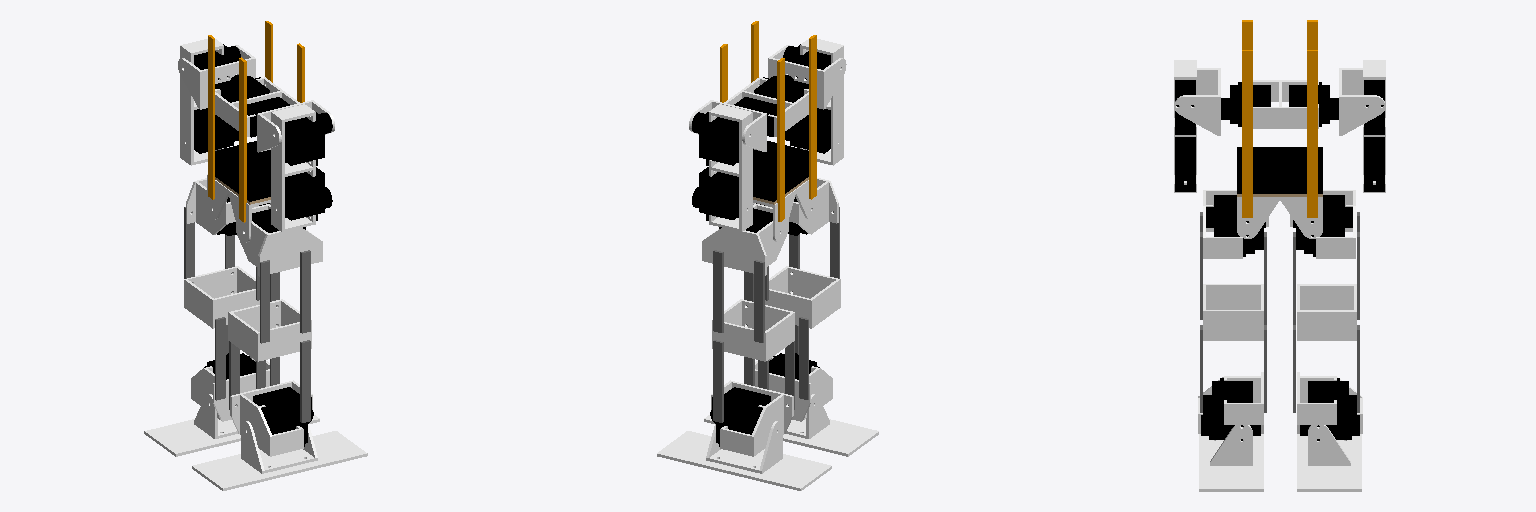
--- Render facts (derived) ---
Views: 3 orthographic renders of the robot side by side, from view 1: azimuth 30°, elevation 25°; view 2: azimuth 150°, elevation 25°; view 3: azimuth 270°, elevation 25°.
Robot: b3w_walker — 27 links, 26 joints (22 revolute, 4 fixed); root link base_link; default pose: all joints at 0.
Links seen in each view (by area): view 1: body, r_upper_arm, r_foot, r_ankle, l_upper_arm, r_knee, l_knee, r_thigh, l_foot, l_ankle, l_shoulder, l_thigh (+7 smaller); view 2: body, l_upper_arm, l_foot, l_ankle, r_upper_arm, l_knee, r_knee, l_thigh, r_foot, r_ankle, r_shoulder, r_thigh (+6 smaller); view 3: body, r_foot, l_foot, r_ankle, l_ankle, r_knee, l_knee, r_thigh, l_thigh, r_upper_arm, l_upper_arm, r_shoulder (+5 smaller).
Boxes of the visible links, bbox=[...] form: body: bbox=[207, 21, 304, 242]; r_upper_arm: bbox=[271, 104, 332, 232]; r_foot: bbox=[192, 421, 367, 490]; r_ankle: bbox=[230, 380, 313, 456]; l_upper_arm: bbox=[180, 39, 240, 165]; r_knee: bbox=[228, 299, 311, 361]; l_knee: bbox=[184, 266, 259, 328]; r_thigh: bbox=[236, 204, 322, 276]; l_foot: bbox=[144, 394, 319, 456]; l_ankle: bbox=[191, 353, 269, 421]; l_shoulder: bbox=[178, 45, 255, 109]; l_thigh: bbox=[186, 178, 269, 235]; body: bbox=[720, 21, 816, 242]; l_upper_arm: bbox=[692, 104, 752, 231]; l_foot: bbox=[657, 421, 831, 490]; l_ankle: bbox=[710, 380, 793, 456]; r_upper_arm: bbox=[783, 39, 843, 165]; l_knee: bbox=[712, 299, 794, 361]; r_knee: bbox=[765, 266, 840, 328]; l_thigh: bbox=[702, 203, 788, 275]; r_foot: bbox=[704, 394, 878, 456]; r_ankle: bbox=[755, 353, 832, 421]; r_shoulder: bbox=[768, 45, 846, 109]; r_thigh: bbox=[756, 178, 838, 235]; body: bbox=[1221, 20, 1338, 238]; r_foot: bbox=[1199, 425, 1263, 491]; l_foot: bbox=[1297, 425, 1361, 491]; r_ankle: bbox=[1198, 372, 1263, 440]; l_ankle: bbox=[1297, 372, 1362, 440]; r_knee: bbox=[1203, 284, 1263, 340]; l_knee: bbox=[1297, 284, 1356, 340]; r_thigh: bbox=[1203, 190, 1268, 258]; l_thigh: bbox=[1290, 190, 1355, 258]; r_upper_arm: bbox=[1174, 60, 1196, 192]; l_upper_arm: bbox=[1363, 60, 1385, 192]; r_shoulder: bbox=[1175, 68, 1220, 135].
Size in the robot's own frame: 0.16 by 0.196 by 0.4274 metres.
37 mesh visuals loaded from 34 distinct referenced files (34 binary STL).

The robot description file, URDF, robot "b3w_walker":
<?xml version="1.0"?>
<robot name="b3w_walker">
  <gazebo>
    <plugin name="gazebo_ros_control" filename="libgazebo_ros_control.so">
      <robotNamespace>/b3w_walker</robotNamespace>
    </plugin>
    <static>false</static>
  </gazebo>

  <!-- <body/> -->
  <link name="base_link">
  </link>
  <joint name="base_link_fixed" type="fixed">
    <origin xyz="0 0 0" rpy="0 0 0"/>
    <parent link="base_link"/>
    <child link="l_foot_endcoords"/>
  </joint>

  <joint name="body_fixed" type="fixed">
    <origin xyz="-28e-3 -30e-3 33e-3" rpy="0 0 0"/>
    <parent link="body"/>
    <child link="body_endcoords"/>
  </joint>
  <link name="body_endcoords">
  </link>
  
  <link name="body">
    <visual name="west">
      <origin xyz="5.5e-3 -84.5e-3 -13e-3" rpy="0 0 1.5707"/>
      <geometry>
      	<mesh filename="package://b3w_walker/models/b3w_walker/stl/body-west-1.STL" scale="1e-3 1e-3 1e-3"/>
      </geometry>
      <material name="brown">
	<color rgba="0.8235 0.7059 0.549 1"/>
      </material>
    </visual>
    <visual name="r_foot_joint">
      <origin xyz="5.5e-3 -84.5e-3 -13e-3" rpy="0 0 1.5707"/>
      <geometry>
      	<mesh filename="package://b3w_walker/models/b3w_walker/stl/body-r_foot_joint-1.STL" scale="1e-3 1e-3 1e-3"/>
      </geometry>
      <material name="white">
	<color rgba="1 1 1 1"/>
      </material>
    </visual>
    <visual name="l_foot_joint">
      <origin xyz="5.5e-3 -84.5e-3 -13e-3" rpy="0 0 1.5707"/>
      <geometry>
      	<mesh filename="package://b3w_walker/models/b3w_walker/stl/body-l_foot_joint-1.STL" scale="1e-3 1e-3 1e-3"/>
      </geometry>
      <material name="white">
	<color rgba="1 1 1 1"/>
      </material>
    </visual>
    <visual name="chest">
      <origin xyz="5.5e-3 -84.5e-3 -13e-3" rpy="0 0 1.5707"/>
      <geometry>
      	<mesh filename="package://b3w_walker/models/b3w_walker/stl/body-chest-1.STL" scale="1e-3 1e-3 1e-3"/>
      </geometry>
      <material name="white">
	<color rgba="1 1 1 1"/>
      </material>
    </visual>
    <visual name="type2-1">
      <origin xyz="5.5e-3 -84.5e-3 -13e-3" rpy="0 0 1.5707"/>
      <geometry>
      	<mesh filename="package://b3w_walker/models/b3w_walker/stl/body-type2-1.STL" scale="1e-3 1e-3 1e-3"/>
      </geometry>
      <material name="black">
	<color rgba="0 0 0 1"/>
      </material>
    </visual>
    <visual name="type2-2">
      <origin xyz="5.5e-3 -84.5e-3 -13e-3" rpy="0 0 1.5707"/>
      <geometry>
      	<mesh filename="package://b3w_walker/models/b3w_walker/stl/body-type2-2.STL" scale="1e-3 1e-3 1e-3"/>
      </geometry>
      <material name="black">
	<color rgba="0 0 0 1"/>
      </material>
    </visual>
    <visual name="pi">
      <origin xyz="5.5e-3 -84.5e-3 -13e-3" rpy="0 0 1.5707"/>
      <geometry>
      	<mesh filename="package://b3w_walker/models/b3w_walker/stl/body-pi-1.STL" scale="1e-3 1e-3 1e-3"/>
      </geometry>
      <material name="black">
	<color rgba="0 0 0 1"/>
      </material>
    </visual>
    <visual name="pole-1">
      <origin xyz="5.5e-3 -84.5e-3 -13e-3" rpy="0 0 1.5707"/>
      <geometry>
      	<mesh filename="package://b3w_walker/models/b3w_walker/stl/body-pole-1.STL" scale="1e-3 1e-3 1e-3"/>
      </geometry>
      <material name="orange">
	<color rgba="1 0.647 0 1"/>
      </material>
    </visual>
    <visual name="pole-2">
      <origin xyz="5.5e-3 -84.5e-3 -13e-3" rpy="0 0 1.5707"/>
      <geometry>
      	<mesh filename="package://b3w_walker/models/b3w_walker/stl/body-pole-2.STL" scale="1e-3 1e-3 1e-3"/>
      </geometry>
      <material name="orange">
	<color rgba="1 0.647 0 1"/>
      </material>
    </visual>
    <visual name="pole-3">
      <origin xyz="5.5e-3 -84.5e-3 -13e-3" rpy="0 0 1.5707"/>
      <geometry>
      	<mesh filename="package://b3w_walker/models/b3w_walker/stl/body-pole-3.STL" scale="1e-3 1e-3 1e-3"/>
      </geometry>
      <material name="orange">
	<color rgba="1 0.647 0 1"/>
      </material>
    </visual>
    <visual name="pole-4">
      <origin xyz="5.5e-3 -84.5e-3 -13e-3" rpy="0 0 1.5707"/>
      <geometry>

      	<mesh filename="package://b3w_walker/models/b3w_walker/stl/body-pole-4.STL" scale="1e-3 1e-3 1e-3"/>
      </geometry>
      <material name="orange">
	<color rgba="1 0.647 0 1"/>
      </material>
    </visual>
    <collision name="collision">
      <origin xyz="-28e-3 -30e-3 105e-3" rpy="0 0 0"/>
      <geometry>
	<box size="68e-3 80e-3 150e-3"/>
      </geometry>
    </collision>
    <inertial>
      <origin xyz="-27.77e-3 -30e-3 71.29e-3" rpy="0 0 1.5707"/>
      <mass value="249.61e-3"/>
      <inertia ixx="469536.22e-9" iyy="555552.88e-9" izz="269099.12e-9" ixy="0" iyz="-2538.43e-9" ixz="0"/>
    </inertial>
  </link>
  <gazebo reference="body">
      <selfCollide>true</selfCollide>
  </gazebo>
  
  <!-- <right arm/> -->
  <joint name="r_shoulder_pitch" type="revolute">
    <origin xyz="-17.5e-3 -84.5e-3 113e-3" rpy="0 0 0"/>
    <parent link="body"/>
    <child link="r_shoulder"/>
    <axis xyz="0 1 0"/>
    <limit effort="0.4" velocity="1.5707" lower="-1.5707" upper="1.5707" />
  </joint>
  <transmission name="tran_r_shoulder_pitch">
    <type>transmission_interface/SimpleTransmission</type>
    <joint name="r_shoulder_pitch">
      <hardwareInterface>hardware_interface/PositionJointInterface</hardwareInterface>
    </joint>
    <actuator name="motor_r_shoulder_pitch">
      <hardwareInterface>hardware_interface/PositionJointInterface</hardwareInterface>
      <mechanicalReduction>1</mechanicalReduction>
    </actuator>
  </transmission>

 <link name="r_shoulder">
    <visual name="r_shoulder">
      <origin xyz="21e-3 -43e-3 -20e-3" rpy="0 -1.5707 0"/>
      <geometry>
      	<mesh filename="package://b3w_walker/models/b3w_walker/stl/r_shoulder.STL" scale="1e-3 1e-3 1e-3"/>
      </geometry>
      <material name="white">
	<color rgba="1 1 1 1"/>
      </material>
    </visual>
    <collision name="collision">
      <origin xyz="-10e-3 -21.5e-3 0" rpy="0 0 0"/>
      <geometry>
	<box size="62e-3 43e-3 40e-3"/>
      </geometry>
    </collision>
    <inertial>
      <origin xyz="-10.06e-3 -9.9e-3 2.3e-3" rpy="0 -1.5707 0"/>
      <mass value="13.98e-3"/>
      <inertia ixx="10014.76e-9" iyy="9800.30e-9" izz="3544.51e-9" ixy="-523.71e-9" iyz="-18.93e-9" ixz="6.31e-9"/>
    </inertial>
  </link>
  <gazebo reference="r_shoulder">
      <selfCollide>true</selfCollide>
  </gazebo>

  <joint name="r_shoulder_roll" type="revolute">
    <origin xyz="18e-3 -33e-3 10e-3" rpy="0 0 0"/>
    <parent link="r_shoulder"/>
    <child link="r_upper_arm"/>
    <axis xyz="1 0 0"/>
    <limit effort="0.4" velocity="1.5707" lower="-1.5707" upper="0.3927" />
  </joint>
  <transmission name="tran_r_shoulder_roll">
    <type>transmission_interface/SimpleTransmission</type>
    <joint name="r_shoulder_roll">
      <hardwareInterface>hardware_interface/PositionJointInterface</hardwareInterface>
    </joint>
    <actuator name="motor_r_shoulder_roll">
      <hardwareInterface>hardware_interface/PositionJointInterface</hardwareInterface>
      <mechanicalReduction>1</mechanicalReduction>
    </actuator>
  </transmission>

  <link name="r_upper_arm">
    <visual name="upper_arm">
      <origin xyz="0 -10.5e-3 20e-3" rpy="0 1.5707 1.5707"/>
      <geometry>
      	<mesh filename="package://b3w_walker/models/b3w_walker/stl/arm-upper_arm-1.STL" scale="1e-3 1e-3 1e-3"/>
      </geometry>
      <material name="white">
	<color rgba="1 1 1 1"/>
      </material>
    </visual>
    <visual name="type2-1">
      <origin xyz="0 -10.5e-3 20e-3" rpy="0 1.5707 1.5707"/>
      <geometry>
      	<mesh filename="package://b3w_walker/models/b3w_walker/stl/arm-type2-1.STL" scale="1e-3 1e-3 1e-3"/>
      </geometry>
      <material name="black">
	<color rgba="0 0 0 1"/>
      </material>
    </visual>
    <visual name="type2-2">
      <origin xyz="0 -10.5e-3 20e-3" rpy="0 1.5707 1.5707"/>
      <geometry>
      	<mesh filename="package://b3w_walker/models/b3w_walker/stl/arm-type2-2.STL" scale="1e-3 1e-3 1e-3"/>
      </geometry>
      <material name="black">
	<color rgba="0 0 0 1"/>
      </material>
    </visual>
    <collision name="collision">
      <origin xyz="-37.5e-3 0 -39.31e-3" rpy="0 0 0"/>
      <geometry>
	<box size="37e-3 21e-3 119e-3"/>
      </geometry>
    </collision>
    <inertial>
      <origin xyz="-28.23e-3 0 -39.5e-3" rpy="0 1.5707 1.5707"/>
      <mass value="91.78e-3"/>
      <inertia ixx="21303.42e-9" iyy="107781.77e-9" izz="122945.47e-9" ixy="0" iyz="0" ixz="0"/>
    </inertial>
  </link>
  <gazebo reference="r_upper_arm">
      <selfCollide>true</selfCollide>
  </gazebo>

  <joint name="r_elbow_roll" type="revolute">
    <origin xyz="0 0 -79e-3" rpy="0 0 0"/>
    <parent link="r_upper_arm"/>
    <child link="r_lower_arm"/>
    <axis xyz="-1 0 0"/>
    <limit effort="0.4" velocity="1.5707" lower="-1.5707" upper="1.5707" />
  </joint>
  <transmission name="tran_r_elbow_roll">
    <type>transmission_interface/SimpleTransmission</type>
    <joint name="r_elbow_roll">
      <hardwareInterface>hardware_interface/PositionJointInterface</hardwareInterface>
    </joint>
    <actuator name="motor_r_elbow_roll">
      <hardwareInterface>hardware_interface/PositionJointInterface</hardwareInterface>
      <mechanicalReduction>1</mechanicalReduction>
    </actuator>
  </transmission>

  <link name="r_lower_arm">
    <visual name="box">
      <origin xyz="1.5e-3 0 0" rpy="0 0 0"/>
      <geometry>
	<box size="3e-3 3e-3 3e-3"/>
      </geometry>
      <material name="white">
	<color rgba="1 1 1 1"/>
      </material>
    </visual>
    <collision name="collision">
      <origin xyz="1.5e-3 0 0" rpy="0 0 0"/>
      <geometry>
	<box size="3e-3 3e-3 3e-3"/>
      </geometry>
    </collision>
    <inertial>
      <origin xyz="1.5e-3 0 0" rpy="0 0 0"/>
      <mass value="0.027e-3"/>
      <inertia ixx="2.1e-11" iyy="2.1e-11" izz="2.1e-11" ixy="0" iyz="0" ixz="0"/>
    </inertial>
  </link>
  <gazebo reference="r_lower_arm">
      <selfCollide>true</selfCollide>
  </gazebo>



  <!-- <left arm/> -->
  <joint name="l_shoulder_pitch" type="revolute">
    <origin xyz="-17.5e-3 24.5e-3 113e-3" rpy="0 0 0"/>
    <parent link="body"/>
    <child link="l_shoulder"/>
    <axis xyz="0 -1 0"/>
    <limit effort="0.4" velocity="1.5707" lower="-1.5707" upper="1.5707" />
  </joint>
  <transmission name="tran_l_shoulder_pitch">
    <type>transmission_interface/SimpleTransmission</type>
    <joint name="l_shoulder_pitch">
      <hardwareInterface>hardware_interface/PositionJointInterface</hardwareInterface>
    </joint>
    <actuator name="motor_l_shoulder_pitch">
      <hardwareInterface>hardware_interface/PositionJointInterface</hardwareInterface>
      <mechanicalReduction>1</mechanicalReduction>
    </actuator>
  </transmission>

  <link name="l_shoulder">
    <visual name="l_shoulder">
      <origin xyz="21e-3 0 -20e-3" rpy="0 -1.5707 0"/>
      <geometry>
      	<mesh filename="package://b3w_walker/models/b3w_walker/stl/l_shoulder.STL" scale="1e-3 1e-3 1e-3"/>
      </geometry>
      <material name="white">
	<color rgba="1 1 1 1"/>
      </material>
    </visual>
    <collision name="collision">
      <origin xyz="-10e-3 21.5e-3 0" rpy="0 0 0"/>
      <geometry>
	<box size="62e-3 43e-3 40e-3"/>
      </geometry>
    </collision>
    <inertial>
      <origin xyz="-10.06e-3 9.9e-3 2.3e-3" rpy="0 -1.5707 0"/>
      <mass value="13.98e-3"/>
      <inertia ixx="10014.76e-9" iyy="9800.30e-9" izz="3544.51e-9" ixy="523.71e-9" iyz="18.93e-9" ixz="6.31e-9"/>
    </inertial>
  </link>
  <gazebo reference="l_shoulder">
      <selfCollide>true</selfCollide>
  </gazebo>

  <joint name="l_shoulder_roll" type="revolute">
    <origin xyz="18e-3 33e-3 10e-3" rpy="0 0 0"/>
    <parent link="l_shoulder"/>
    <child link="l_upper_arm"/>
    <axis xyz="1 0 0"/>
    <limit effort="0.4" velocity="1.5707" lower="-0.3927" upper="1.5707" />
  </joint>
  <transmission name="tran_l_shoulder_roll">
    <type>transmission_interface/SimpleTransmission</type>
    <joint name="l_shoulder_roll">
      <hardwareInterface>hardware_interface/PositionJointInterface</hardwareInterface>
    </joint>
    <actuator name="motor_l_shoulder_roll">
      <hardwareInterface>hardware_interface/PositionJointInterface</hardwareInterface>
      <mechanicalReduction>1</mechanicalReduction>
    </actuator>
  </transmission>

  <link name="l_upper_arm">
    <visual name="upper_arm">
      <origin xyz="0 -10.5e-3 20e-3" rpy="0 1.5707 1.5707"/>
      <geometry>
      	<mesh filename="package://b3w_walker/models/b3w_walker/stl/arm-upper_arm-1.STL" scale="1e-3 1e-3 1e-3"/>
      </geometry>
      <material name="white">
	<color rgba="1 1 1 1"/>
      </material>
    </visual>
    <visual name="type2-1">
      <origin xyz="0 -10.5e-3 20e-3" rpy="0 1.5707 1.5707"/>
      <geometry>
      	<mesh filename="package://b3w_walker/models/b3w_walker/stl/arm-type2-1.STL" scale="1e-3 1e-3 1e-3"/>
      </geometry>
      <material name="black">
	<color rgba="0 0 0 1"/>
      </material>
    </visual>
    <visual name="type2-2">
      <origin xyz="0 -10.5e-3 20e-3" rpy="0 1.5707 1.5707"/>
      <geometry>
      	<mesh filename="package://b3w_walker/models/b3w_walker/stl/arm-type2-2.STL" scale="1e-3 1e-3 1e-3"/>
      </geometry>
      <material name="black">
	<color rgba="0 0 0 1"/>
      </material>
    </visual>
    <collision name="collision">
      <origin xyz="-37.5e-3 0 -39.31e-3" rpy="0 0 0"/>
      <geometry>
	<box size="37e-3 21e-3 119e-3"/>
      </geometry>
    </collision>
    <inertial>
      <origin xyz="-28.23e-3 0 -39.5e-3" rpy="0 1.5707 1.5707"/>
      <mass value="91.78e-3"/>
      <inertia ixx="21303.42e-9" iyy="107781.77e-9" izz="122945.47e-9" ixy="0" iyz="0" ixz="0"/>
    </inertial>
  </link>
  <gazebo reference="l_upper_arm">
      <selfCollide>true</selfCollide>
  </gazebo>
  
  <joint name="l_elbow_roll" type="revolute">
    <origin xyz="0 0 -79e-3" rpy="0 0 0"/>
    <parent link="l_upper_arm"/>
    <child link="l_lower_arm"/>
    <axis xyz="-1 0 0"/>
    <limit effort="0.4" velocity="1.5707" lower="-1.5707" upper="1.5707" />
  </joint>
  <transmission name="tran_l_elbow_roll">
    <type>transmission_interface/SimpleTransmission</type>
    <joint name="l_elbow_roll">
      <hardwareInterface>hardware_interface/PositionJointInterface</hardwareInterface>
    </joint>
    <actuator name="motor_l_elbow_roll">
      <hardwareInterface>hardware_interface/PositionJointInterface</hardwareInterface>
      <mechanicalReduction>1</mechanicalReduction>
    </actuator>
  </transmission>

  <link name="l_lower_arm">
    <visual name="box">
      <origin xyz="1.5e-3 0 0" rpy="0 0 0"/>
      <geometry>
	<box size="3e-3 3e-3 3e-3"/>
      </geometry>
      <material name="white">
	<color rgba="1 1 1 1"/>
      </material>
    </visual>
    <collision name="collision">
      <origin xyz="1.5e-3 0 0" rpy="0 0 0"/>
      <geometry>
	<box size="3e-3 3e-3 3e-3"/>
      </geometry>
    </collision>
    <inertial>
      <origin xyz="1.5e-3 0 0" rpy="0 0 0"/>
      <mass value="0.027e-3"/>
      <inertia ixx="2.1e-11" iyy="2.1e-11" izz="2.1e-11" ixy="0" iyz="0" ixz="0"/>
    </inertial>
  </link>
  <gazebo reference="l_lower_arm">
      <selfCollide>true</selfCollide>
  </gazebo>






  <!-- <right leg/> -->
  <joint name="r_footjoint_roll" type="revolute">
    <origin xyz="0 -60e-3 0" rpy="0 0 0"/>
    <parent link="body"/>
    <child link="r_thigh"/>
    <axis xyz="1 0 0"/>
    <limit effort="0.4" velocity="1.5707" lower="-0.7854" upper="0.7854" />
  </joint>
  <transmission name="tran_r_footjoint_roll">
    <type>transmission_interface/SimpleTransmission</type>
    <joint name="r_footjoint_roll">
      <hardwareInterface>hardware_interface/PositionJointInterface</hardwareInterface>
    </joint>
    <actuator name="motor_r_footjoint_roll">
      <hardwareInterface>hardware_interface/PositionJointInterface</hardwareInterface>
      <mechanicalReduction>1</mechanicalReduction>
    </actuator>
  </transmission>

  <link name="r_thigh">
    <visual name="r_thigh">
      <origin xyz="5e-3 20e-3 10.5e-3" rpy="0 3.1415 1.5707"/>
      <geometry>
      	<mesh filename="package://b3w_walker/models/b3w_walker/stl/r_thigh.STL" scale="1e-3 1e-3 1e-3"/>
      </geometry>
      <material name="white">
  	<color rgba="1 1 1 1"/>
      </material>
    </visual>
    <visual name="type2-1">
      <origin xyz="5e-3 20e-3 10.5e-3" rpy="0 3.1415 1.5707"/>
      <geometry>
      	<mesh filename="package://b3w_walker/models/b3w_walker/stl/r_thigh-type2-1.STL" scale="1e-3 1e-3 1e-3"/>
      </geometry>
      <material name="black">
  	<color rgba="0 0 0 1"/>
      </material>
    </visual>
    <visual name="type2-2">
      <origin xyz="5e-3 20e-3 10.5e-3" rpy="0 3.1415 1.5707"/>
      <geometry>
      	<mesh filename="package://b3w_walker/models/b3w_walker/stl/r_thigh-type2-2.STL" scale="1e-3 1e-3 1e-3"/>
      </geometry>
      <material name="black">
  	<color rgba="0 0 0 1"/>
      </material>
    </visual>
    <collision name="collision">
      <origin xyz="-30e-3 -10.5e-3 -10.5e-3" rpy="0 0 0"/>
      <geometry>
  	<box size="70e-3 61e-3 42e-3"/>
      </geometry>
    </collision>
    <inertial>
      <origin xyz="-27.04e-3 -11.99e-3 -10.54e-3" rpy="0 3.1415 1.5707"/>
      <mass value="95.76e-3"/>
      <inertia ixx="35785.97e-9" iyy="35507.30e-9" izz="44004.92e-9" ixy="1232.13e-9" iyz="-1392.7e-9" ixz="1621.84e-9"/>
    </inertial>
  </link>
  <gazebo reference="r_thigh">
      <selfCollide>true</selfCollide>
  </gazebo>

  <joint name="r_footjoint_pitch" type="revolute">
    <origin xyz="-15e-3 15e-3 -21e-3" rpy="0 0 0"/>
    <parent link="r_thigh"/>
    <child link="r_uf_bone"/>
    <axis xyz="0 -1 0"/>
    <limit effort="0.4" velocity="1.5707" lower="-1.5707" upper="1.5707" />
  </joint>
  <transmission name="tran_r_footjoint_pitch">
    <type>transmission_interface/SimpleTransmission</type>
    <joint name="r_footjoint_pitch">
      <hardwareInterface>hardware_interface/PositionJointInterface</hardwareInterface>
    </joint>
    <actuator name="motor_r_footjoint_pitch">
      <hardwareInterface>hardware_interface/PositionJointInterface</hardwareInterface>
      <mechanicalReduction>1</mechanicalReduction>
    </actuator>
  </transmission>

  <link name="r_uf_bone">
    <visual name="l_bone">
      <origin xyz="0 1.5e-3 -37.5e-3" rpy="0 0 0"/>
      <geometry>
      	<box size="10e-3 3e-3 85e-3"/>
      </geometry>
      <material name="grey">
  	<color rgba="0.5 0.5 0.5 1"/>
      </material>
    </visual>
    <visual name="r_bone">
      <origin xyz="0 -57.5e-3 -37.5e-3" rpy="0 0 0"/>
      <geometry>
      	<box size="10e-3 3e-3 85e-3"/>
      </geometry>
      <material name="grey">
  	<color rgba="0.5 0.5 0.5 1"/>
      </material>
    </visual>
    <collision name="collision">
      <origin xyz="0 -28e-3 -37.5e-3" rpy="0 0 0"/>
      <geometry>
      	<box size="10e-3 62e-3 85e-3"/>
      </geometry>
    </collision>
    <inertial>
      <origin xyz="0 -28e-3 -37.5e-3" rpy="0 0 0"/>
      <mass value="5.2e-3"/>
      <inertia ixx="7662.98e-9" iyy="3125.39e-9" izz="4574.29e-9" ixy="0" iyz="0" ixz="0"/>
    </inertial>
  </link>
  <gazebo reference="r_uf_bone">
      <selfCollide>true</selfCollide>
  </gazebo>

  <joint name="r_b_footjoint_pitch" type="revolute">
    <origin xyz="-60e-3 -41e-3 -21e-3" rpy="0 0 0"/>
    <parent link="r_thigh"/>
    <child link="r_ub_bone"/>
    <axis xyz="0 1 0"/>
    <limit effort="0" velocity="1.5707" lower="-1.5707" upper="1.5707" />
    <mimic joint="r_footjoint_pitch" multiplier="-1"/>
  </joint>
  <transmission name="tran_r_b_footjoint_pitch">
    <type>transmission_interface/SimpleTransmission</type>
    <joint name="r_b_footjoint_pitch">
      <hardwareInterface>hardware_interface/PositionJointInterface</hardwareInterface>
    </joint>
    <actuator name="motor_r_b_footjoint_pitch">
      <hardwareInterface>hardware_interface/PositionJointInterface</hardwareInterface>
      <mechanicalReduction>1</mechanicalReduction>
    </actuator>
  </transmission>

  <link name="r_ub_bone">
    <visual name="bone">
      <origin xyz="0 -1.5e-3 -37.5e-3" rpy="0 0 0"/>
      <geometry>
      	<box size="10e-3 3e-3 85e-3"/>
      </geometry>
      <material name="grey">
  	<color rgba="0.5 0.5 0.5 1"/>
      </material>
    </visual>
    <collision name="collision">
      <origin xyz="0 -1.5e-3 -37.5e-3" rpy="0 0 0"/>
      <geometry>
      	<box size="10e-3 3e-3 85e-3"/>
      </geometry>
    </collision>
    <inertial>
      <origin xyz="0 -1.5e-3 -37.5e-3" rpy="0 0 0"/>
      <mass value="2.6e-3"/>
      <inertia ixx="1567.69e-9" iyy="1587.97e-9" izz="23.63e-9" ixy="0" iyz="0" ixz="0"/>
    </inertial>
  </link>
  <gazebo reference="r_ub_bone">
      <selfCollide>true</selfCollide>
  </gazebo>
  
  <joint name="r_uf_knee" type="revolute">
    <origin xyz="0 0 -75e-3" rpy="0 0 0"/>
    <parent link="r_uf_bone"/>
    <child link="r_knee"/>
    <axis xyz="0 -1 0"/>
    <limit effort="0" velocity="1.5707" lower="-1.5707" upper="1.5707" />
    <mimic joint="r_footjoint_pitch" multiplier="-1"/>
  </joint>
  <transmission name="tran_r_uf_knee">
    <type>transmission_interface/SimpleTransmission</type>
    <joint name="r_uf_knee">
      <hardwareInterface>hardware_interface/PositionJointInterface</hardwareInterface>
    </joint>
    <actuator name="motor_r_uf_knee">
      <hardwareInterface>hardware_interface/PositionJointInterface</hardwareInterface>
      <mechanicalReduction>1</mechanicalReduction>
    </actuator>
  </transmission>

  <link name="r_knee">
    <visual name="r_knee">
      <origin xyz="-52.5e-3 -56e-3 -25e-3" rpy="1.5707 0 1.5707"/>
      <geometry>
      	<mesh filename="package://b3w_walker/models/b3w_walker/stl/r_knee.STL" scale="1e-3 1e-3 1e-3"/>
      </geometry>
      <material name="white">
  	<color rgba="1 1 1 1"/>
      </material>
    </visual>
    <collision name="collision">
      <origin xyz="-22.5e-3 -28e-3 -10e-3" rpy="0 0 0"/>
      <geometry>
  	<box size="60e-3 56e-3 30e-3"/>
      </geometry>
    </collision>
    <inertial>
      <origin xyz="-23.1e-3 -28e-3 -10e-3" rpy="1.5707 0 1.5707"/>
      <mass value="13.98e-3"/>
      <inertia ixx="12181.46e-9" iyy="20223.11e-9" izz="11307.47e-9" ixy="14.72e-9" iyz="0" ixz="0"/>
    </inertial>
  </link>
  <gazebo reference="r_knee">
      <selfCollide>true</selfCollide>
  </gazebo>

  <joint name="r_db_knee" type="revolute">
    <origin xyz="-45e-3 0 -20e-3" rpy="0 0 0"/>
    <parent link="r_knee"/>
    <child link="r_db_bone"/>
    <axis xyz="0 -1 0"/>
    <limit effort="0" velocity="1.5707" lower="-1.5707" upper="1.5707" />
    <mimic joint="r_ankle_pitch" multiplier="-1"/>
  </joint>
  <transmission name="tran_r_db_knee">
    <type>transmission_interface/SimpleTransmission</type>
    <joint name="r_db_knee">
      <hardwareInterface>hardware_interface/PositionJointInterface</hardwareInterface>
    </joint>
    <actuator name="motor_r_db_knee">
      <hardwareInterface>hardware_interface/PositionJointInterface</hardwareInterface>
      <mechanicalReduction>1</mechanicalReduction>
    </actuator>
  </transmission>

  <link name="r_db_bone">
    <visual name="bone">
      <origin xyz="0 1.5e-3 -37.5e-3" rpy="0 0 0"/>
      <geometry>
      	<box size="10e-3 3e-3 85e-3"/>
      </geometry>
      <material name="grey">
  	<color rgba="0.5 0.5 0.5 1"/>
      </material>
    </visual>
    <collision name="collision">
      <origin xyz="0 1.5e-3 -37.5e-3" rpy="0 0 0"/>
      <geometry>
      	<box size="10e-3 3e-3 85e-3"/>
      </geometry>
    </collision>
    <inertial>
      <origin xyz="0 1.5e-3 -37.5e-3" rpy="0 0 0"/>
      <mass value="2.6e-3"/>
      <inertia ixx="1567.69e-9" iyy="1587.97e-9" izz="23.63e-9" ixy="0" iyz="0" ixz="0"/>
    </inertial>
  </link>
  <gazebo reference="r_db_bone">
      <selfCollide>true</selfCollide>
  </gazebo>

  <joint name="r_df_knee" type="revolute">
    <origin xyz="0 -56e-3 -20e-3" rpy="0 0 0"/>
    <parent link="r_knee"/>
    <child link="r_df_bone"/>
    <axis xyz="0 -1 0"/>
    <limit effort="0" velocity="1.5707" lower="-1.5707" upper="1.5707" />
    <mimic joint="r_ankle_pitch" multiplier="-1"/>
  </joint>
  <transmission name="tran_r_df_knee">
    <type>transmission_interface/SimpleTransmission</type>
    <joint name="r_df_knee">
      <hardwareInterface>hardware_interface/PositionJointInterface</hardwareInterface>
    </joint>
    <actuator name="motor_r_df_knee">
      <hardwareInterface>hardware_interface/PositionJointInterface</hardwareInterface>
      <mechanicalReduction>1</mechanicalReduction>
    </actuator>
  </transmission>

  <link name="r_df_bone">
    <visual name="r_bone">
      <origin xyz="0 -1.5e-3 -37.5e-3" rpy="0 0 0"/>
      <geometry>
      	<box size="10e-3 3e-3 85e-3"/>
      </geometry>
      <material name="grey">
  	<color rgba="0.5 0.5 0.5 1"/>
      </material>
    </visual>
    <visual name="l_bone">
      <origin xyz="0 57.5e-3 -37.5e-3" rpy="0 0 0"/>
      <geometry>
      	<box size="10e-3 3e-3 85e-3"/>
      </geometry>
      <material name="grey">
  	<color rgba="0.5 0.5 0.5 1"/>
      </material>
    </visual>
    <collision name="collision">
      <origin xyz="0 28e-3 -37.5e-3" rpy="0 0 0"/>
      <geometry>
      	<box size="10e-3 62e-3 85e-3"/>
      </geometry>
    </collision>
    <inertial>
      <origin xyz="0 28e-3 -37.5e-3" rpy="0 0 0"/>
      <mass value="5.2e-3"/>
      <inertia ixx="7662.98e-9" iyy="3125.39e-9" izz="4574.29e-9" ixy="0" iyz="0" ixz="0"/>
    </inertial>
  </link>
  <gazebo reference="r_df_bone">
      <selfCollide>true</selfCollide>
  </gazebo>

  <joint name="r_ankle_pitch" type="revolute">
    <origin xyz="0 0 -75e-3" rpy="0 0 0"/>
    <parent link="r_df_bone"/>
    <child link="r_ankle"/>
    <axis xyz="0 -1 0"/>
    <limit effort="0.4" velocity="1.5707" lower="-1.5707" upper="1.5707" />
  </joint>
  <transmission name="tran_r_ankle_pitch">
    <type>transmission_interface/SimpleTransmission</type>
    <joint name="r_ankle_pitch">
      <hardwareInterface>hardware_interface/PositionJointInterface</hardwareInterface>
    </joint>
    <actuator name="motor_r_ankle_pitch">
      <hardwareInterface>hardware_interface/PositionJointInterface</hardwareInterface>
      <mechanicalReduction>1</mechanicalReduction>
    </actuator>
  </transmission>

  <link name="r_ankle">
    <visual name="r_ankle">
      <origin xyz="20e-3 -5e-3 -31.5e-3" rpy="0 0 1.5707"/>
      <geometry>
      	<mesh filename="package://b3w_walker/models/b3w_walker/stl/r_ankle.STL" scale="1e-3 1e-3 1e-3"/>
      </geometry>
      <material name="white">
  	<color rgba="1 1 1 1"/>
      </material>
    </visual>
    <visual name="type2-1">
      <origin xyz="20e-3 -5e-3 -31.5e-3" rpy="0 0 1.5707"/>
      <geometry>
      	<mesh filename="package://b3w_walker/models/b3w_walker/stl/r_ankle_type2-1.STL" scale="1e-3 1e-3 1e-3"/>
      </geometry>
      <material name="black">
  	<color rgba="0 0 0 1"/>
      </material>
    </visual>
    <visual name="type2-2">
      <origin xyz="20e-3 -5e-3 -31.5e-3" rpy="0 0 1.5707"/>
      <geometry>
      	<mesh filename="package://b3w_walker/models/b3w_walker/stl/r_ankle_type2-2.STL" scale="1e-3 1e-3 1e-3"/>
      </geometry>
      <material name="black">
  	<color rgba="0 0 0 1"/>
      </material>
    </visual>
    <collision name="collision">
      <origin xyz="-15e-3 30e-3 -10.5e-3" rpy="0 0 0"/>
      <geometry>
  	<box size="70e-3 61e-3 42e-3"/>
      </geometry>
    </collision>
    <inertial>
      <origin xyz="-12.08e-3 27.62e-3 -10.86e-3" rpy="0 0 1.5707"/>
      <mass value="96.15e-3"/>
      <inertia ixx="36875.99e-9" iyy="36382.18e-9" izz="44211.91e-9" ixy="-130.16e-9" iyz="-1342.61e-9" ixz="1097.22e-9"/>
    </inertial>
  </link>
  <gazebo reference="r_ankle">
      <selfCollide>true</selfCollide>
  </gazebo>
  
  <joint name="r_ankle_roll" type="revolute">
    <origin xyz="15e-3 36e-3 -20e-3" rpy="0 0 0"/>
    <parent link="r_ankle"/>
    <child link="r_foot"/>
    <axis xyz="-1 0 0"/>
    <limit effort="0.4" velocity="1.5707" lower="-0.3927" upper="0.3927" />
  </joint>
  <transmission name="tran_r_ankle_roll">
    <type>transmission_interface/SimpleTransmission</type>
    <joint name="r_ankle_roll">
      <hardwareInterface>hardware_interface/PositionJointInterface</hardwareInterface>
    </joint>
    <actuator name="motor_r_ankle_roll">
      <hardwareInterface>hardware_interface/PositionJointInterface</hardwareInterface>
      <mechanicalReduction>1</mechanicalReduction>
    </actuator>
  </transmission>

  <link name="r_foot">
    <visual name="r_foot">
      <origin xyz="-108e-3 -40e-3 -36e-3" rpy="0 0 0"/>
      <geometry>
      	<mesh filename="package://b3w_walker/models/b3w_walker/stl/r_bottom-r_foot-1.STL" scale="1e-3 1e-3 1e-3"/>
      </geometry>
      <material name="white">
  	<color rgba="1 1 1 1"/>
      </material>
    </visual>
    <visual name="r_foot_bottom">
      <origin xyz="-108e-3 -40e-3 -36e-3" rpy="0 0 0"/>
      <geometry>
      	<mesh filename="package://b3w_walker/models/b3w_walker/stl/r_bottom-bottom-1.STL" scale="1e-3 1e-3 1e-3"/>
      </geometry>
      <material name="white">
  	<color rgba="1 1 1 1"/>
      </material>
    </visual>
    <collision name="collision">
      <origin xyz="-28e-3 -10e-3 -33e-3" rpy="0 0 0"/>
      <geometry>
  	<box size="160e-3 60e-3 6e-3"/>
      </geometry>
    </collision>
    <inertial>
      <origin xyz="-28.02e-3 -9.26e-3 -30.82e-3" rpy="0 0 0"/>
      <mass value="43.42e-3"/>
      <inertia ixx="13643.46e-9" iyy="73903.25e-9" izz="81281.84e-9" ixy="-7.59e-9" iyz="771.74e-9" ixz="-25.56e-9"/>
    </inertial>
  </link>
  <gazebo reference="r_foot">
    <selfCollide>true</selfCollide>
    <mu1 value="1.0"/>
    <mu2 value="1.0"/>
  </gazebo>

  <joint name="r_foot_fixed" type="fixed">
    <origin xyz="-28e-3 -10e-3 -36e-3" rpy="0 0 0"/>
    <parent link="r_foot"/>
    <child link="r_foot_endcoords"/>
  </joint>
  <link name="r_foot_endcoords">
  </link>

  <!-- <left leg/> -->
  <joint name="l_footjoint_roll" type="revolute">
    <origin xyz="15e-3 15e-3 21e-3" rpy="0 0 0"/>
    <child link="body"/>
    <parent link="l_thigh"/>
    <axis xyz="-1 0 0"/>
    <limit effort="0.4" velocity="1.5707" lower="-0.7854" upper="0.7854" />
  </joint>
  <transmission name="tran_l_footjoint_roll">
    <type>transmission_interface/SimpleTransmission</type>
    <joint name="l_footjoint_roll">
      <hardwareInterface>hardware_interface/PositionJointInterface</hardwareInterface>
    </joint>
    <actuator name="motor_l_footjoint_roll">
      <hardwareInterface>hardware_interface/PositionJointInterface</hardwareInterface>
      <mechanicalReduction>1</mechanicalReduction>
    </actuator>
  </transmission>

  <link name="l_thigh">
    <visual name="l_thigh">
      <origin xyz="20e-3 56e-3 31.5e-3" rpy="0 3.1415 1.5707"/>
      <geometry>
      	<mesh filename="package://b3w_walker/models/b3w_walker/stl/l_thigh.STL" scale="1e-3 1e-3 1e-3"/>
      </geometry>
      <material name="white">
  	<color rgba="1 1 1 1"/>
      </material>
    </visual>
    <visual name="type2-3">
      <origin xyz="20e-3 56e-3 31.5e-3" rpy="0 3.1415 1.5707"/>
      <geometry>
      	<mesh filename="package://b3w_walker/models/b3w_walker/stl/l_thigh-type2-3.STL" scale="1e-3 1e-3 1e-3"/>
      </geometry>
      <material name="black">
  	<color rgba="0 0 0 1"/>
      </material>
    </visual>
    <visual name="type2-4">
      <origin xyz="20e-3 56e-3 31.5e-3" rpy="0 3.1415 1.5707"/>
      <geometry>
      	<mesh filename="package://b3w_walker/models/b3w_walker/stl/l_thigh-type2-4.STL" scale="1e-3 1e-3 1e-3"/>
      </geometry>
      <material name="black">
  	<color rgba="0 0 0 1"/>
      </material>
    </visual>
    <collision name="collision">
      <origin xyz="-15e-3 25.5e-3 10.5e-3" rpy="0 0 0"/>
      <geometry>
  	<box size="70e-3 61e-3 42e-3"/>
      </geometry>
    </collision>
    <inertial>
      <origin xyz="-12.04e-3 26.99e-3 11.46e-3" rpy="0 3.1415 1.5707"/>
      <mass value="95.76e-3"/>
      <inertia ixx="35785.97e-9" iyy="35507.30e-9" izz="44004.92e-9" ixy="-1232.13e-9" iyz="-1392.7e-9" ixz="-1621.84e-9"/>
    </inertial>
  </link>
  <gazebo reference="l_thigh">
      <selfCollide>true</selfCollide>
  </gazebo>

  <joint name="l_footjoint_pitch" type="revolute">
    <origin xyz="0 0 75e-3" rpy="0 0 0"/>
    <child link="l_thigh"/>
    <parent link="l_uf_bone"/>
    <axis xyz="0 -1 0"/>
    <limit effort="0.4" velocity="1.5707" lower="-1.5707" upper="1.5707" />
  </joint>
  <transmission name="tran_l_footjoint_pitch">
    <type>transmission_interface/SimpleTransmission</type>
    <joint name="l_footjoint_pitch">
      <hardwareInterface>hardware_interface/PositionJointInterface</hardwareInterface>
    </joint>
    <actuator name="motor_l_footjoint_pitch">
      <hardwareInterface>hardware_interface/PositionJointInterface</hardwareInterface>
      <mechanicalReduction>1</mechanicalReduction>
    </actuator>
  </transmission>

  <link name="l_uf_bone">
    <visual name="r_bone">
      <origin xyz="0 -1.5e-3 37.5e-3" rpy="0 0 0"/>
      <geometry>
      	<box size="10e-3 3e-3 85e-3"/>
      </geometry>
      <material name="grey">
  	<color rgba="0.5 0.5 0.5 1"/>
      </material>
    </visual>
    <visual name="l_bone">
      <origin xyz="0 57.5e-3 37.5e-3" rpy="0 0 0"/>
      <geometry>
      	<box size="10e-3 3e-3 85e-3"/>
      </geometry>
      <material name="grey">
  	<color rgba="0.5 0.5 0.5 1"/>
      </material>
    </visual>
    <collision name="collision">
      <origin xyz="0 28e-3 37.5e-3" rpy="0 0 0"/>
      <geometry>
      	<box size="10e-3 62e-3 85e-3"/>
      </geometry>
    </collision>
    <inertial>
      <origin xyz="0 28e-3 37.5e-3" rpy="0 0 0"/>
      <mass value="5.2e-3"/>
      <inertia ixx="7662.98e-9" iyy="3125.39e-9" izz="4574.29e-9" ixy="0" iyz="0" ixz="0"/>
    </inertial>
  </link>
  <gazebo reference="l_uf_bone">
      <selfCollide>true</selfCollide>
  </gazebo>

  <joint name="l_b_footjoint_pitch" type="revolute">
    <origin xyz="-45e-3 56e-3 0" rpy="0 0 0"/>
    <parent link="l_thigh"/>
    <child link="l_ub_bone"/>
    <axis xyz="0 -1 0"/>
    <limit effort="0" velocity="1.5707" lower="-1.5707" upper="1.5707" />
    <mimic joint="l_footjoint_pitch" multiplier="-1"/>
  </joint>
  <transmission name="tran_l_b_footjoint_pitch">
    <type>transmission_interface/SimpleTransmission</type>
    <joint name="l_b_footjoint_pitch">
      <hardwareInterface>hardware_interface/PositionJointInterface</hardwareInterface>
    </joint>
    <actuator name="motor_l_b_footjoint_pitch">
      <hardwareInterface>hardware_interface/PositionJointInterface</hardwareInterface>
      <mechanicalReduction>1</mechanicalReduction>
    </actuator>
  </transmission>

  <link name="l_ub_bone">
    <visual name="bone">
      <origin xyz="0 1.5e-3 -37.5e-3" rpy="0 0 0"/>
      <geometry>
      	<box size="10e-3 3e-3 85e-3"/>
      </geometry>
      <material name="grey">
  	<color rgba="0.5 0.5 0.5 1"/>
      </material>
    </visual>
    <collision name="collision">
      <origin xyz="0 1.5e-3 -37.5e-3" rpy="0 0 0"/>
      <geometry>
      	<box size="10e-3 3e-3 85e-3"/>
      </geometry>
    </collision>
    <inertial>
      <origin xyz="0 1.5e-3 -37.5e-3" rpy="0 0 0"/>
      <mass value="2.6e-3"/>
      <inertia ixx="1567.69e-9" iyy="1587.97e-9" izz="23.63e-9" ixy="0" iyz="0" ixz="0"/>
    </inertial>
  </link>
  <gazebo reference="l_ub_bone">
      <selfCollide>true</selfCollide>
  </gazebo>

  <joint name="l_uf_knee" type="revolute">
    <origin xyz="0 -56e-3 20e-3" rpy="0 0 0"/>
    <child link="l_uf_bone"/>
    <parent link="l_knee"/>
    <axis xyz="0 -1 0"/>
    <limit effort="0" velocity="1.5707" lower="-1.5707" upper="1.5707" />
    <mimic joint="l_footjoint_pitch" multiplier="-1"/>
  </joint>
  <transmission name="tran_l_uf_knee">
    <type>transmission_interface/SimpleTransmission</type>
    <joint name="l_uf_knee">
      <hardwareInterface>hardware_interface/PositionJointInterface</hardwareInterface>
    </joint>
    <actuator name="motor_l_uf_knee">
      <hardwareInterface>hardware_interface/PositionJointInterface</hardwareInterface>
      <mechanicalReduction>1</mechanicalReduction>
    </actuator>
  </transmission>

  <link name="l_knee">
    <visual name="l_knee">
      <origin xyz="-52.5e-3 -56e-3 -5e-3" rpy="1.5707 0 1.5707"/>
      <geometry>
      	<mesh filename="package://b3w_walker/models/b3w_walker/stl/l_knee.STL" scale="1e-3 1e-3 1e-3"/>
      </geometry>
      <material name="white">
  	<color rgba="1 1 1 1"/>
      </material>
    </visual>
    <collision name="collision">
      <origin xyz="-22.5e-3 -28e-3 10e-3" rpy="0 0 0"/>
      <geometry>
  	<box size="60e-3 56e-3 30e-3"/>
      </geometry>
    </collision>
    <inertial>
      <origin xyz="-23.1e-3 -28e-3 10e-3" rpy="1.5707 0 1.5707"/>
      <mass value="13.98e-3"/>
      <inertia ixx="12181.46e-9" iyy="20223.11e-9" izz="11307.47e-9" ixy="-14.72e-9" iyz="0" ixz="0"/>
    </inertial>
  </link>
  <gazebo reference="l_knee">
      <selfCollide>true</selfCollide>
  </gazebo>

  <joint name="l_db_knee" type="revolute">
    <origin xyz="-45e-3 -56e-3 0" rpy="0 0 0"/>
    <parent link="l_knee"/>
    <child link="l_db_bone"/>
    <axis xyz="0 1 0"/>
    <limit effort="0" velocity="1.5707" lower="-1.5707" upper="1.5707" />
    <mimic joint="l_ankle_pitch" multiplier="-1"/>
  </joint>
  <transmission name="tran_l_db_knee">
    <type>transmission_interface/SimpleTransmission</type>
    <joint name="l_db_knee">
      <hardwareInterface>hardware_interface/PositionJointInterface</hardwareInterface>
    </joint>
    <actuator name="motor_l_db_knee">
      <hardwareInterface>hardware_interface/PositionJointInterface</hardwareInterface>
      <mechanicalReduction>1</mechanicalReduction>
    </actuator>
  </transmission>

  <link name="l_db_bone">
    <visual name="bone">
      <origin xyz="0 -1.5e-3 -37.5e-3" rpy="0 0 0"/>
      <geometry>
      	<box size="10e-3 3e-3 85e-3"/>
      </geometry>
      <material name="grey">
  	<color rgba="0.5 0.5 0.5 1"/>
      </material>
    </visual>
    <collision name="collision">
      <origin xyz="0 -1.5e-3 -37.5e-3" rpy="0 0 0"/>
      <geometry>
      	<box size="10e-3 3e-3 85e-3"/>
      </geometry>
    </collision>
    <inertial>
      <origin xyz="0 -1.5e-3 -37.5e-3" rpy="0 0 0"/>
      <mass value="2.6e-3"/>
      <inertia ixx="1567.69e-9" iyy="1587.97e-9" izz="23.63e-9" ixy="0" iyz="0" ixz="0"/>
    </inertial>
  </link>
  <gazebo reference="l_db_bone">
      <selfCollide>true</selfCollide>
  </gazebo>

  <joint name="l_df_knee" type="revolute">
    <origin xyz="0 0 75e-3" rpy="0 0 0"/>
    <child link="l_knee"/>
    <parent link="l_df_bone"/>
    <axis xyz="0 -1 0"/>
    <limit effort="0" velocity="1.5707" lower="-1.5707" upper="1.5707" />
    <mimic joint="l_ankle_pitch" multiplier="-1"/>
  </joint>
  <transmission name="tran_l_df_knee">
    <type>transmission_interface/SimpleTransmission</type>
    <joint name="l_df_knee">
      <hardwareInterface>hardware_interface/PositionJointInterface</hardwareInterface>
    </joint>
    <actuator name="motor_l_df_knee">
      <hardwareInterface>hardware_interface/PositionJointInterface</hardwareInterface>
      <mechanicalReduction>1</mechanicalReduction>
    </actuator>
  </transmission>

  <link name="l_df_bone">
    <visual name="l_bone">
      <origin xyz="0 1.5e-3 37.5e-3" rpy="0 0 0"/>
      <geometry>
      	<box size="10e-3 3e-3 85e-3"/>
      </geometry>
      <material name="grey">
  	<color rgba="0.5 0.5 0.5 1"/>
      </material>
    </visual>
    <visual name="r_bone">
      <origin xyz="0 -57.5e-3 37.5e-3" rpy="0 0 0"/>
      <geometry>
      	<box size="10e-3 3e-3 85e-3"/>
      </geometry>
      <material name="grey">
  	<color rgba="0.5 0.5 0.5 1"/>
      </material>
    </visual>
    <collision name="collision">
      <origin xyz="0 -28e-3 37.5e-3" rpy="0 0 0"/>
      <geometry>
      	<box size="10e-3 62e-3 85e-3"/>
      </geometry>
    </collision>
    <inertial>
      <origin xyz="0 -28e-3 37.5e-3" rpy="0 0 0"/>
      <mass value="5.2e-3"/>
      <inertia ixx="7662.98e-9" iyy="3125.39e-9" izz="4574.29e-9" ixy="0" iyz="0" ixz="0"/>
    </inertial>
  </link>
  <gazebo reference="l_df_bone">
      <selfCollide>true</selfCollide>
  </gazebo>

  <joint name="l_ankle_pitch" type="revolute">
    <origin xyz="-15e-3 36e-3 20e-3" rpy="0 0 0"/>
    <child link="l_df_bone"/>
    <parent link="l_ankle"/>
    <axis xyz="0 -1 0"/>
    <limit effort="0.4" velocity="1.5707" lower="-1.5707" upper="1.5707" />
  </joint>
  <transmission name="tran_l_ankle_pitch">
    <type>transmission_interface/SimpleTransmission</type>
    <joint name="l_ankle_pitch">
      <hardwareInterface>hardware_interface/PositionJointInterface</hardwareInterface>
    </joint>
    <actuator name="motor_l_ankle_pitch">
      <hardwareInterface>hardware_interface/PositionJointInterface</hardwareInterface>
      <mechanicalReduction>1</mechanicalReduction>
    </actuator>
  </transmission>

  <link name="l_ankle">
    <visual name="l_ankle">
      <origin xyz="5e-3 -20e-3 -11.5e-3" rpy="0 0 1.5707"/>
      <geometry>
      	<mesh filename="package://b3w_walker/models/b3w_walker/stl/l_ankle.STL" scale="1e-3 1e-3 1e-3"/>
      </geometry>
      <material name="white">
  	<color rgba="1 1 1 1"/>
      </material>
    </visual>
    <visual name="type2-4">
      <origin xyz="5e-3 -20e-3 -11.5e-3" rpy="0 0 1.5707"/>
      <geometry>
      	<mesh filename="package://b3w_walker/models/b3w_walker/stl/l_ankle_type2-4.STL" scale="1e-3 1e-3 1e-3"/>
      </geometry>
      <material name="black">
  	<color rgba="0 0 0 1"/>
      </material>
    </visual>
    <visual name="type2-5">
      <origin xyz="5e-3 -20e-3 -11.5e-3" rpy="0 0 1.5707"/>
      <geometry>
      	<mesh filename="package://b3w_walker/models/b3w_walker/stl/l_ankle_type2-5.STL" scale="1e-3 1e-3 1e-3"/>
      </geometry>
      <material name="black">
  	<color rgba="0 0 0 1"/>
      </material>
    </visual>
    <collision name="collision">
      <origin xyz="-30e-3 6e-3 9.5e-3" rpy="0 0 0"/>
      <geometry>
  	<box size="70e-3 61e-3 42e-3"/>
      </geometry>
    </collision>
    <inertial>
      <origin xyz="-27.08e-3 8.38e-3 9.14e-3" rpy="0 0 1.5707"/>
      <mass value="96.15e-3"/>
      <inertia ixx="36875.99e-9" iyy="36382.18e-9" izz="44211.91e-9" ixy="130.16e-9" iyz="-1342.61e-9" ixz="-1097.22e-9"/>
    </inertial>
  </link>
  <gazebo reference="l_ankle">
      <selfCollide>true</selfCollide>
  </gazebo>

  <joint name="l_ankle_roll" type="revolute">
    <origin xyz="28e-3 -10e-3 36e-3" rpy="0 0 0"/>
    <child link="l_ankle"/>
    <parent link="l_foot"/>
    <axis xyz="1 0 0"/>
    <limit effort="0.4" velocity="1.5707" lower="-0.3927" upper="0.3927" />
  </joint>
  <transmission name="tran_l_ankle_roll">
    <type>transmission_interface/SimpleTransmission</type>
    <joint name="l_ankle_roll">
      <hardwareInterface>hardware_interface/PositionJointInterface</hardwareInterface>
    </joint>
    <actuator name="motor_l_ankle_roll">
      <hardwareInterface>hardware_interface/PositionJointInterface</hardwareInterface>
      <mechanicalReduction>1</mechanicalReduction>
    </actuator>
  </transmission>

  <link name="l_foot">
    <visual name="l_foot">
      <origin xyz="-80e-3 -30e-3 0" rpy="0 0 0"/>
      <geometry>
      	<mesh filename="package://b3w_walker/models/b3w_walker/stl/l_bottom-r_foot-2.STL" scale="1e-3 1e-3 1e-3"/>
      </geometry>
      <material name="white">
  	<color rgba="1 1 1 1"/>
      </material>
    </visual>
    <visual name="l_foot_bottom">
      <origin xyz="-80e-3 -30e-3 0" rpy="0 0 0"/>
      <geometry>
      	<mesh filename="package://b3w_walker/models/b3w_walker/stl/l_bottom-bottom-2.STL" scale="1e-3 1e-3 1e-3"/>
      </geometry>
      <material name="white">
  	<color rgba="1 1 1 1"/>
      </material>
    </visual>
    <collision name="collision">
      <origin xyz="0 0 3e-3" rpy="0 0 0"/>
      <geometry>
  	<box size="160e-3 60e-3 6e-3"/>
      </geometry>
    </collision>
    <inertial>
      <origin xyz="-0.02e-3 -0.74e-3 5.18e-3" rpy="0 0 0"/>
      <mass value="43.42e-3"/>
      <inertia ixx="13643.46e-9" iyy="73903.25e-9" izz="81281.84e-9" ixy="7.59e-9" iyz="-771.74e-9" ixz="-25.56e-9"/>
    </inertial>
  </link>
  <gazebo reference="l_foot">
    <selfCollide>true</selfCollide>
    <mu1 value="1.0"/>
    <mu2 value="1.0"/>
  </gazebo>

  <joint name="l_foot_fixed" type="fixed">
    <origin xyz="0 0 0" rpy="0 0 0"/>
    <child link="l_foot"/>
    <parent link="l_foot_endcoords"/>
  </joint>
  <link name="l_foot_endcoords">
  </link>



  
</robot>
